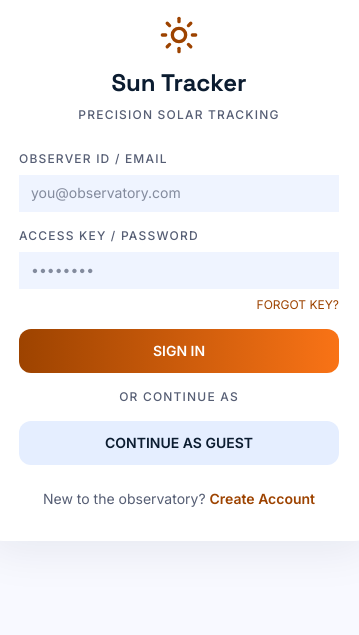
Test: LoginForm › toggles to sign-up mode and shows confirmation on success
Click the button "Create Account" at (262, 499), box x1=210 y1=489 x2=315 y2=509
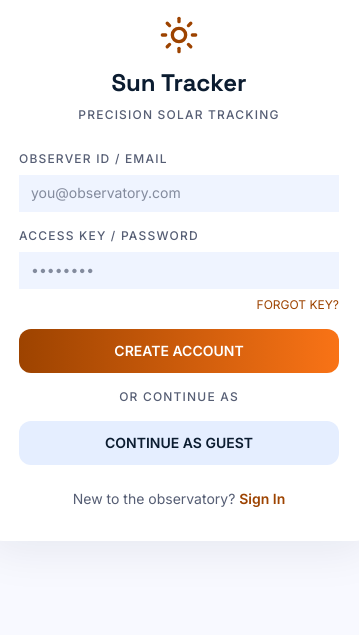
Type "new@chrono.com" into the field labelled "Observer ID / Email" at (179, 194), box x1=19 y1=175 x2=339 y2=212
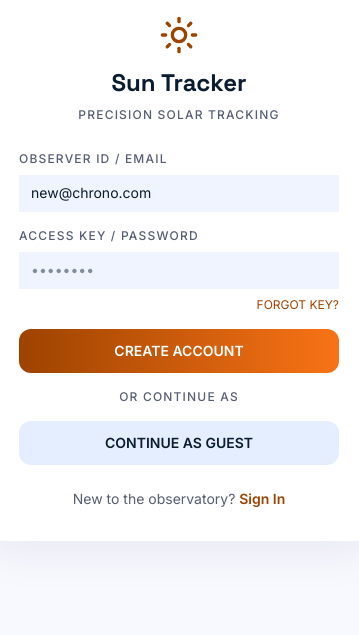
Type "secure-789" into the password field labelled "Access Key / Password" at (179, 270), box x1=19 y1=252 x2=339 y2=289
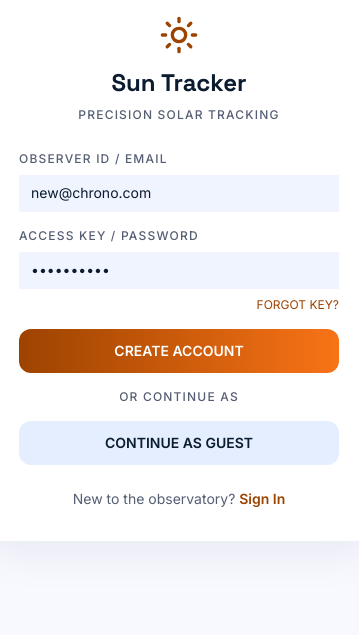
Submit the form "CREATE ACCOUNT", box x1=19 y1=151 x2=339 y2=373
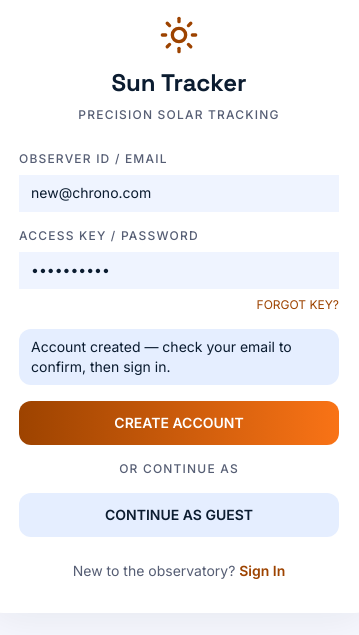
Now the message shows "check your email", box x1=31 y1=338 x2=292 y2=375
